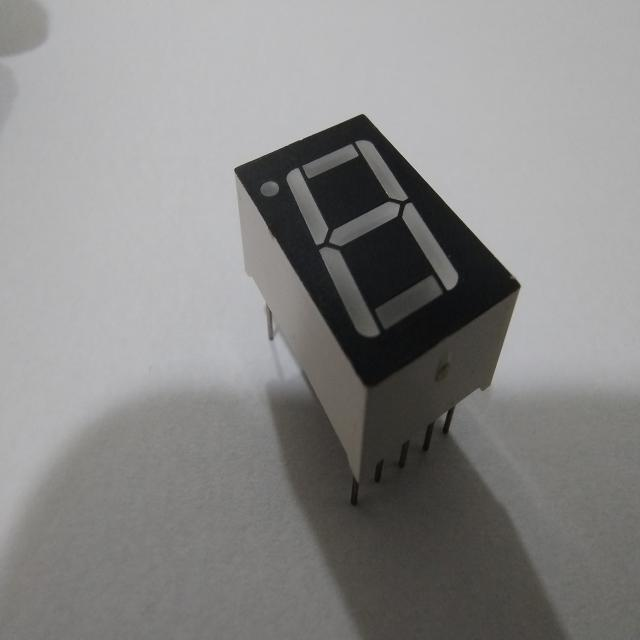7_segments: (217, 104, 528, 516)
